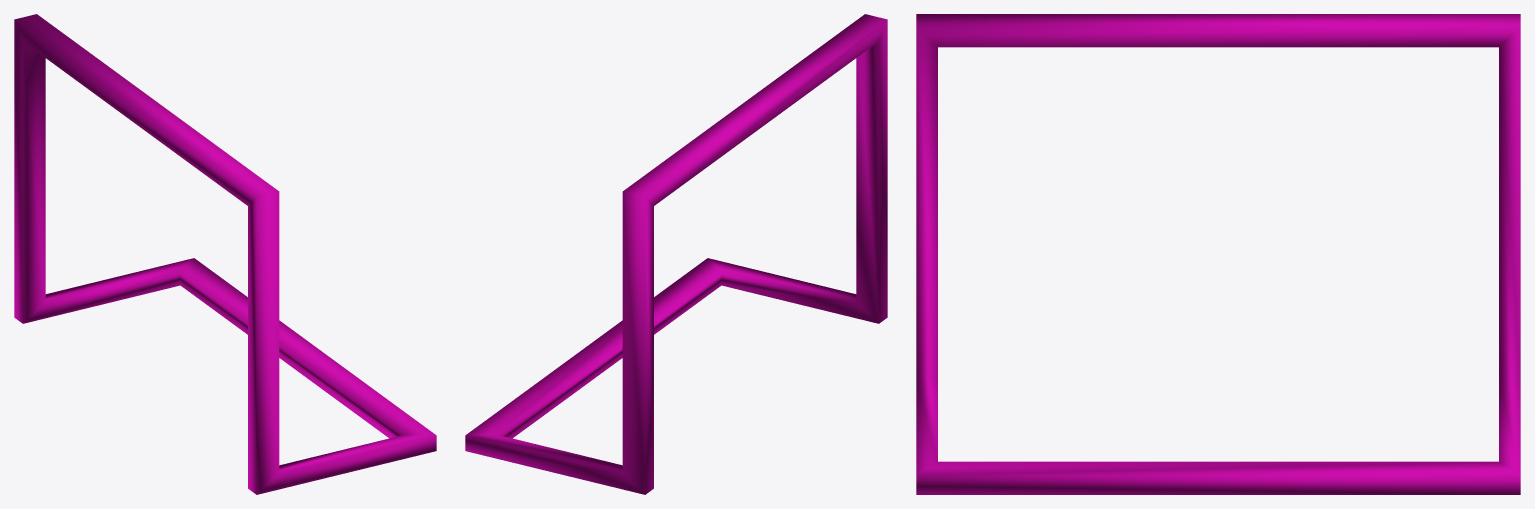
The model's file is Goalsopponent.003.dae.
The picture shows the model from 3 angles, left to right: view 1: azimuth 30°, elevation 25°; view 2: azimuth 150°, elevation 25°; view 3: azimuth 270°, elevation 25°; orthographic projection. The views are drawn at different scales.
Visible parts, largest first — view 1: collision_0_field_1_4; view 2: collision_0_field_1_4; view 3: collision_0_field_1_4.
Boxes of the visible parts, left/top/right/bottom form: collision_0_field_1_4: left=14, top=14, right=436, bottom=494; collision_0_field_1_4: left=465, top=14, right=887, bottom=494; collision_0_field_1_4: left=916, top=14, right=1520, bottom=494.
Size of the model in its own units: 1.59 by 3.71 by 2.52.
